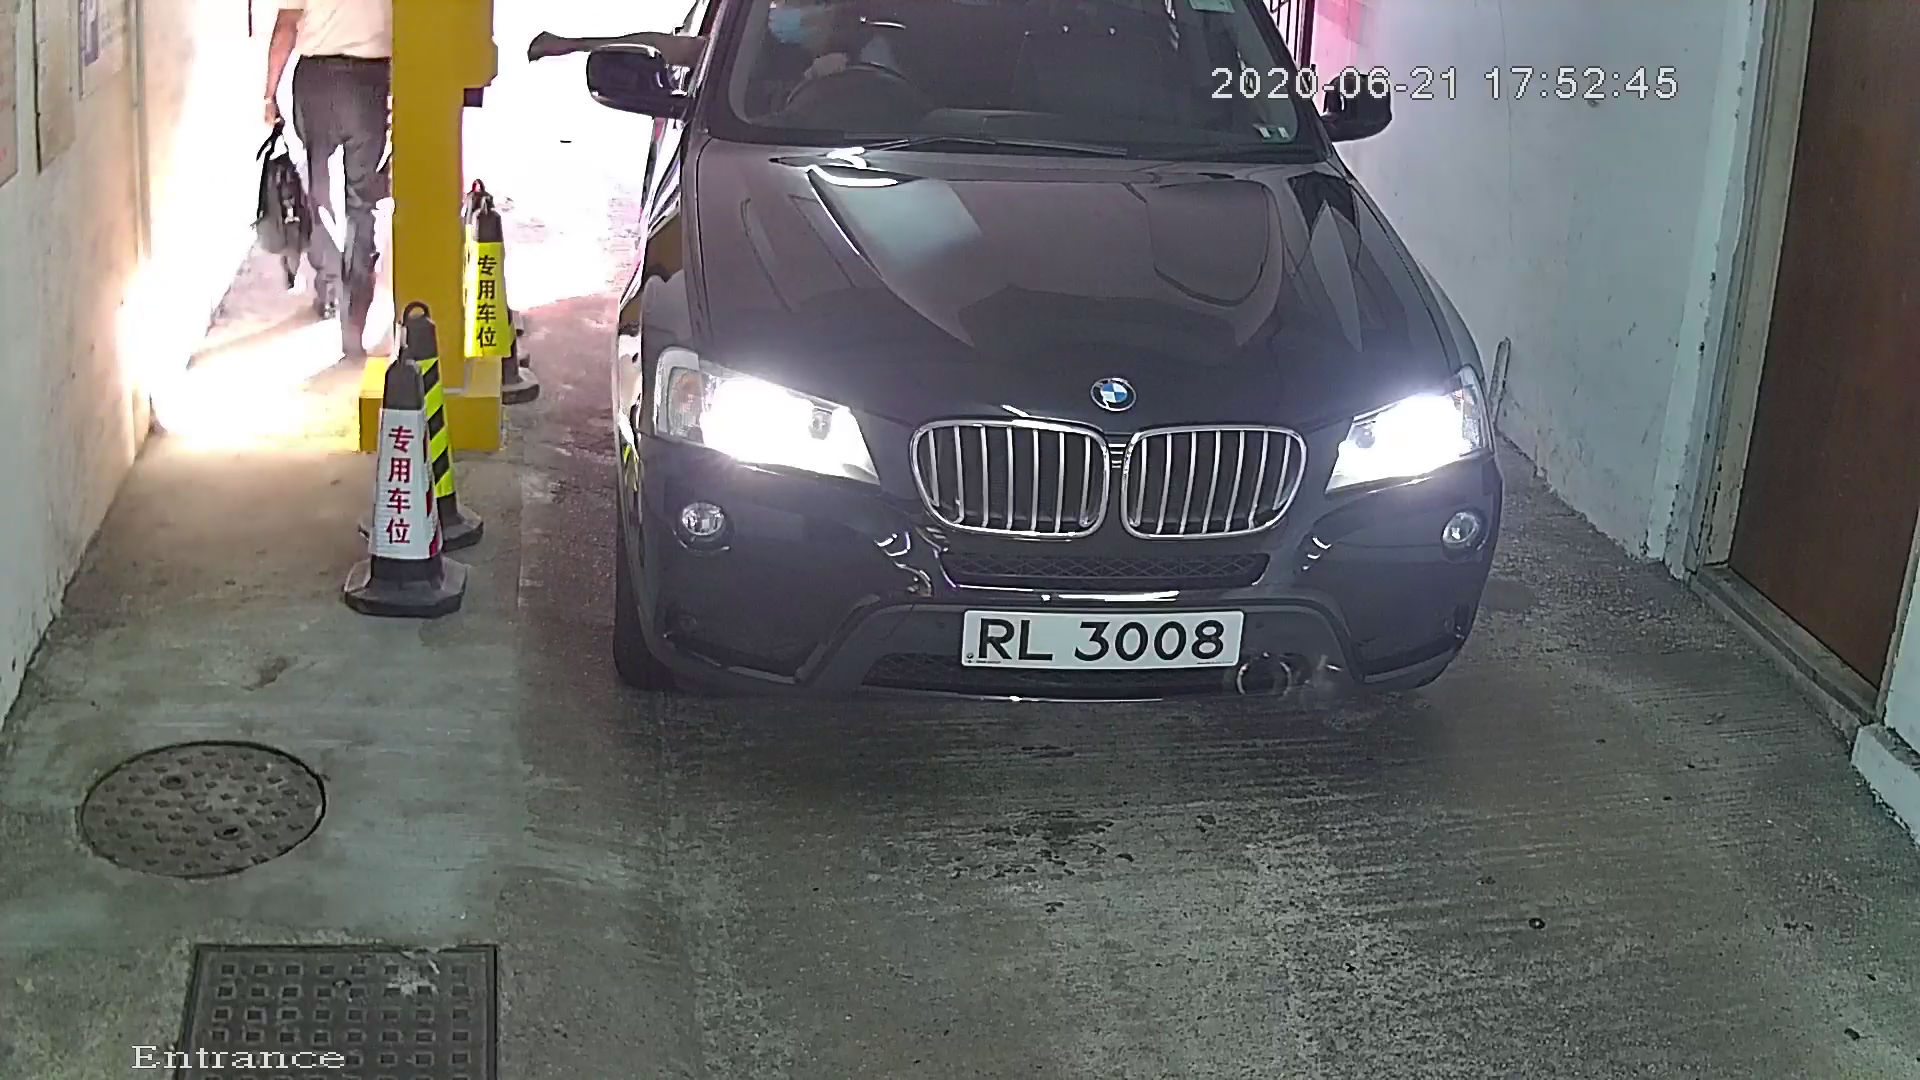privatecar: (589, 1, 1565, 796)
